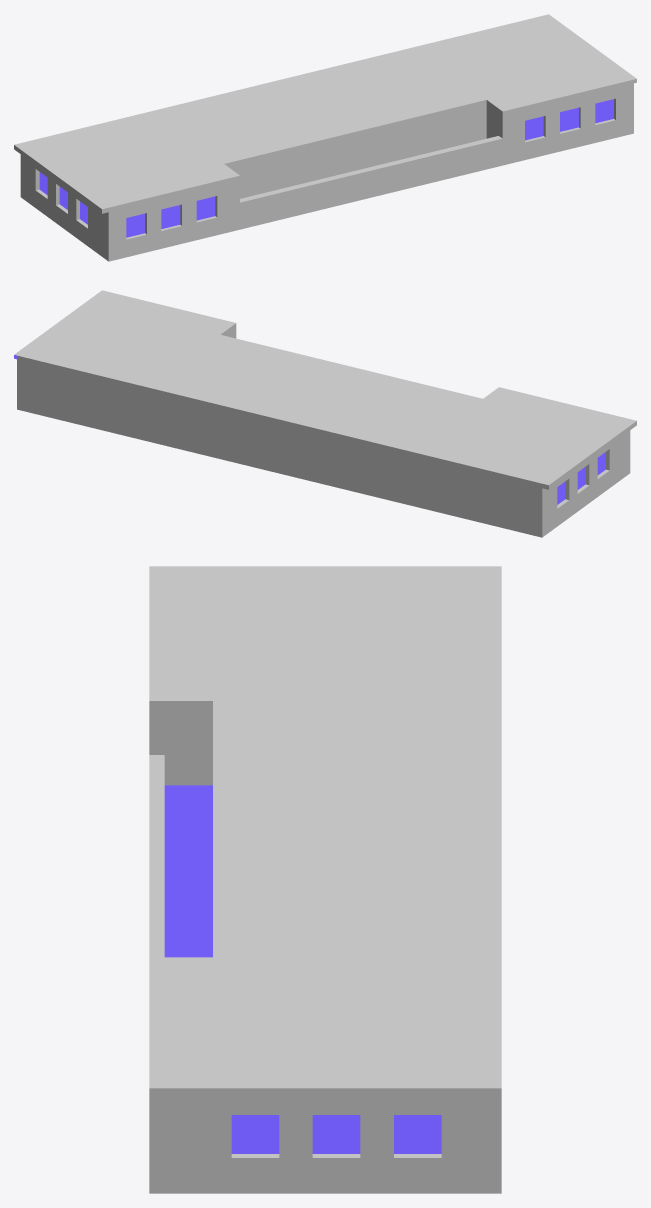
File: other2.glb
3 renders of one model, top to bottom at view 1: azimuth 30°, elevation 25°; view 2: azimuth 150°, elevation 25°; view 3: azimuth 270°, elevation 25°, orthographic. The views are drawn at different scales.
Parts seen in each view (by area): view 1: A座办公楼非底层; view 2: A座办公楼非底层; view 3: A座办公楼非底层.
Boxes of the visible parts, <box> form: A座办公楼非底层: <box>14,14,636,261</box>; A座办公楼非底层: <box>14,290,636,537</box>; A座办公楼非底层: <box>149,566,501,1193</box>.
Bounding box in the file's own units: 51.78 × 5 × 14.78.
